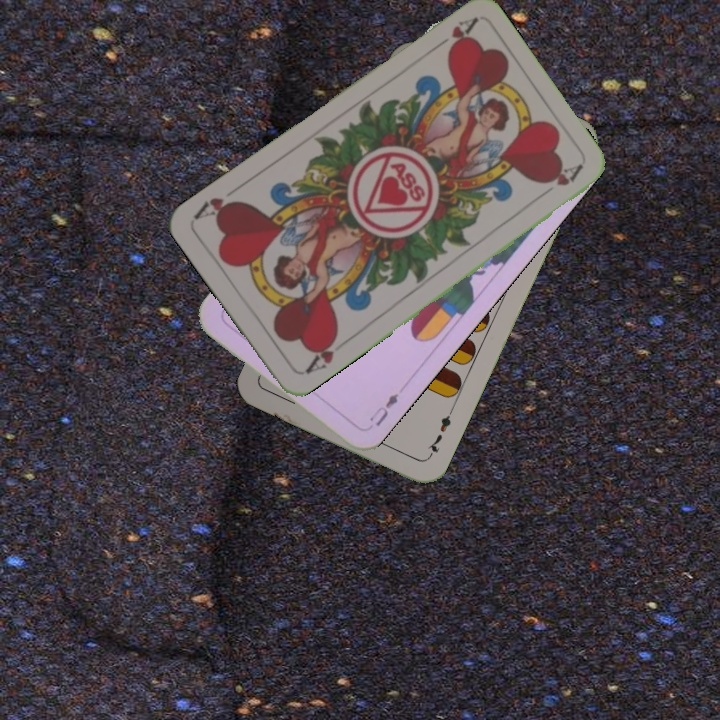E7: (424, 405, 456, 461)
EU: (365, 389, 401, 429)
HA: (301, 330, 350, 377), (426, 14, 479, 56)
